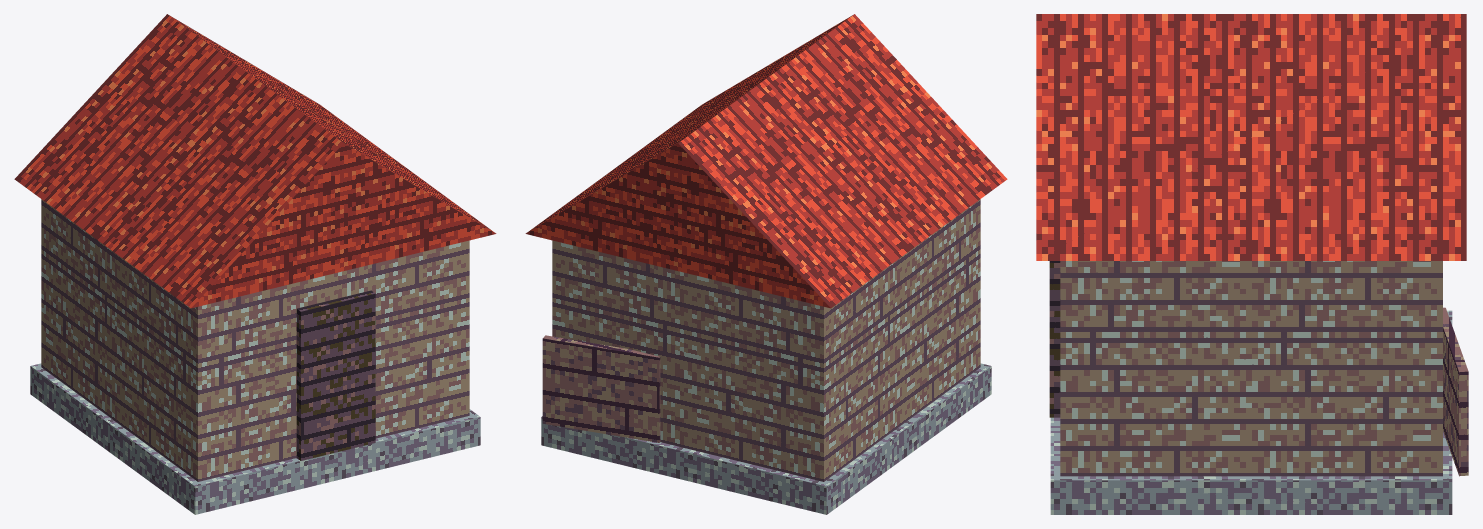
The model's file is casa_pobre.glb.
3 renders of one model, left to right at view 1: azimuth 30°, elevation 25°; view 2: azimuth 150°, elevation 25°; view 3: azimuth 270°, elevation 25°, orthographic. The views are drawn at different scales.
Parts seen in each view (by area): view 1: casa_pobre; view 2: casa_pobre; view 3: casa_pobre.
Part boxes in pixels (x1,y1,x2,y2): casa_pobre: (14,14,496,514); casa_pobre: (525,14,1007,514); casa_pobre: (1036,14,1468,514).
Bounding box in the file's own units: 4.5 × 4.8 × 4.52.
5 materials, 5 textured.
